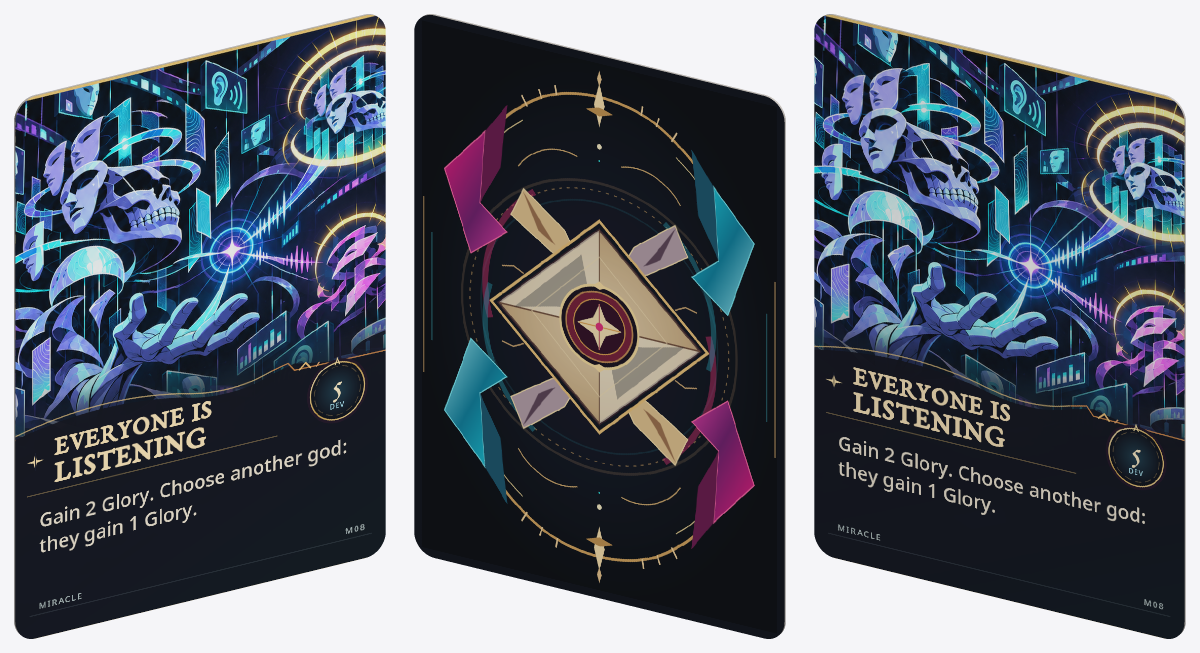
File: SGLD_M08_MIRACLE_POKER_CARD_3D_v0.2-P.glb
The picture shows the model from 3 angles, left to right: view 1: azimuth 30°, elevation 25°; view 2: azimuth 150°, elevation 25°; view 3: azimuth 330°, elevation 25°; orthographic projection.
Parts seen in each view (by area): view 1: M08_FRONT, M08_EDGE; view 2: M08_BACK, M08_EDGE; view 3: M08_FRONT, M08_EDGE.
Boxes of the visible parts, <box> form: M08_FRONT: <box>15,15,385,638</box>; M08_EDGE: <box>14,14,377,633</box>; M08_BACK: <box>414,15,784,638</box>; M08_EDGE: <box>422,14,785,633</box>; M08_FRONT: <box>814,15,1184,638</box>; M08_EDGE: <box>822,14,1185,633</box>.
Size of the model in its own units: 0.0635 by 0.0889 by 0.00038.
Materials: 3 (2 with a texture image).
